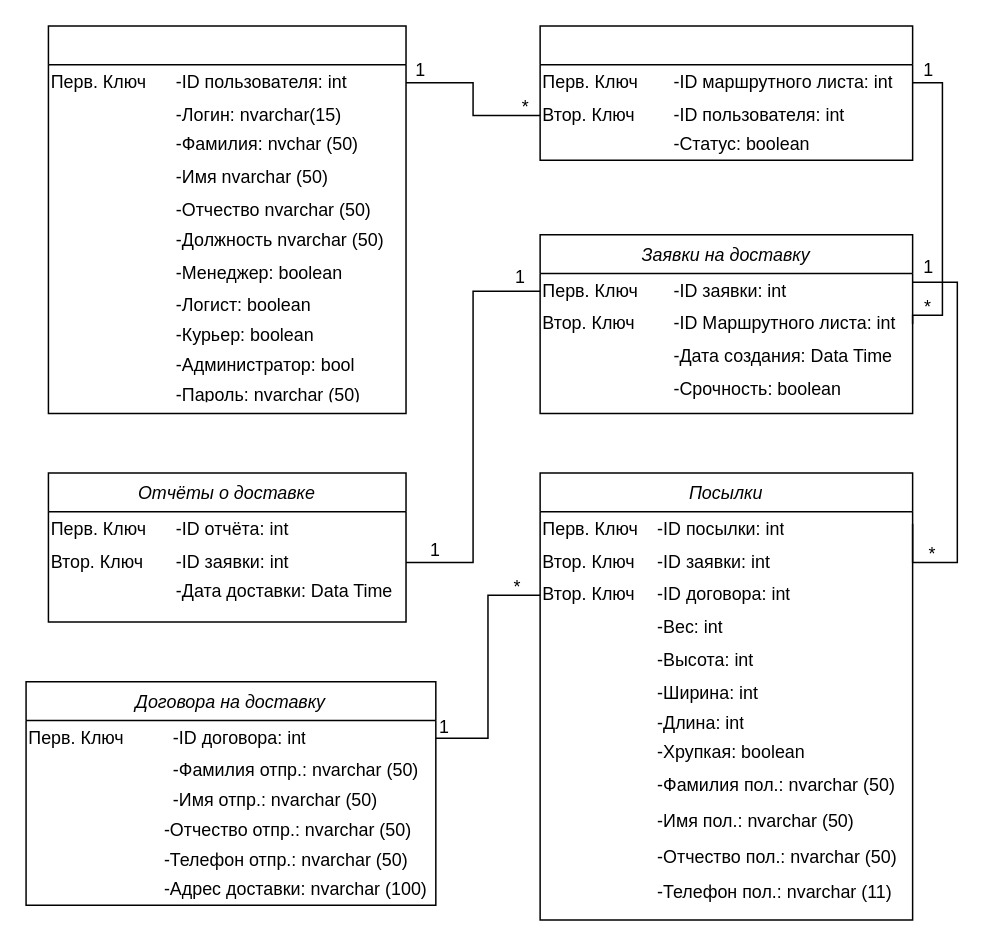
Some shapes in this 985 by 946 pixel diagram are drawn without their labels. The box of each missing label's shape, as (x1, y1, x2, y2) in pixels:
Маршрутный лист: (539, 25, 913, 160)
Пользователи: (47, 25, 406, 413)
